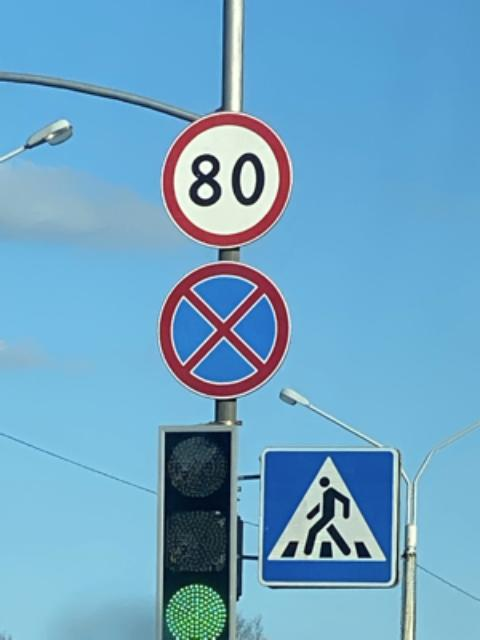crosswalk-sign: (257, 445, 401, 590)
